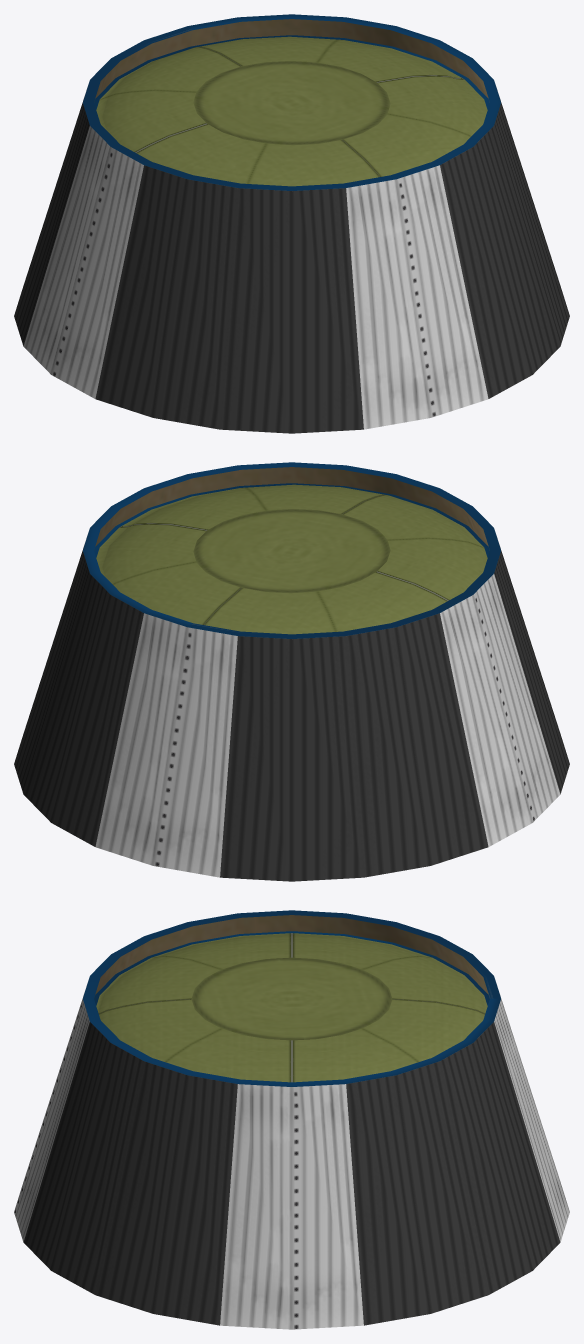
Rendered from TitanAdapterTank.FBX.
3 renders of one model, top to bottom at view 1: azimuth 30°, elevation 25°; view 2: azimuth 150°, elevation 25°; view 3: azimuth 270°, elevation 25°, orthographic.
Visible parts, largest first — view 1: MainBody, EndCap001; view 2: MainBody, EndCap001; view 3: MainBody, EndCap001.
Boxes of the visible parts, bbox=[...] form: MainBody: bbox=[14, 14, 569, 433]; EndCap001: bbox=[94, 35, 489, 186]; MainBody: bbox=[14, 462, 569, 881]; EndCap001: bbox=[94, 483, 489, 634]; MainBody: bbox=[14, 910, 569, 1329]; EndCap001: bbox=[94, 931, 489, 1082].
Size of what is drawn, in the model's own units: 2.49 by 1.06 by 2.49.
Materials: 2 (2 with a texture image).
